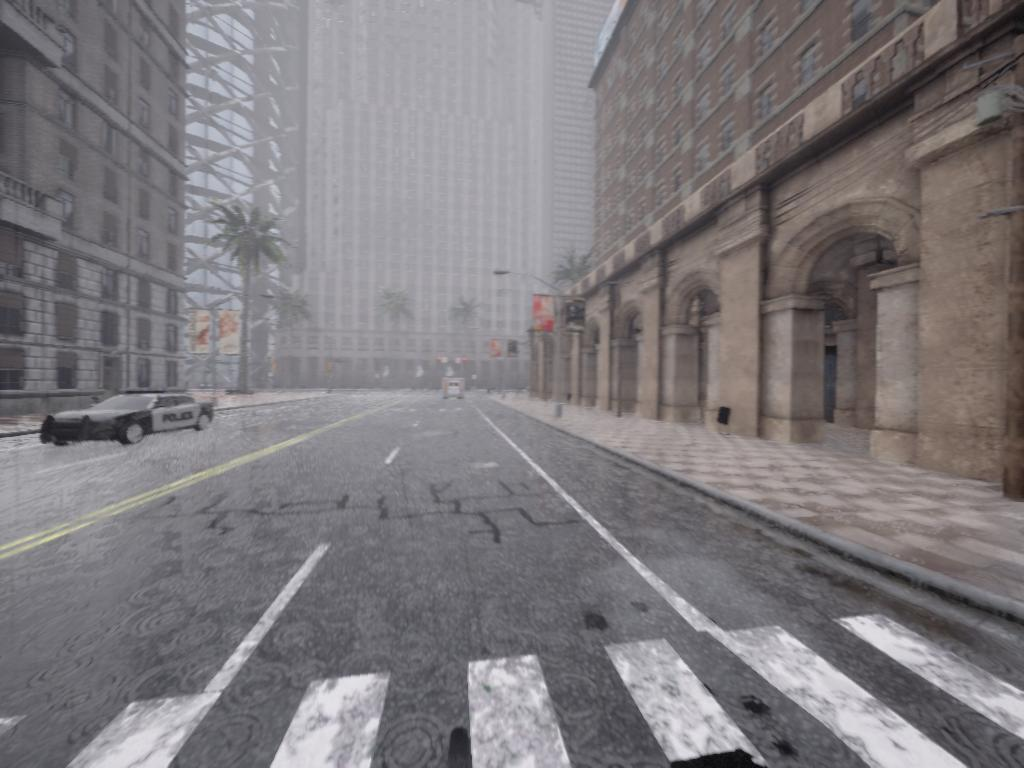traffic_light: (463, 357, 468, 370), (437, 358, 442, 371), (328, 362, 333, 374)
